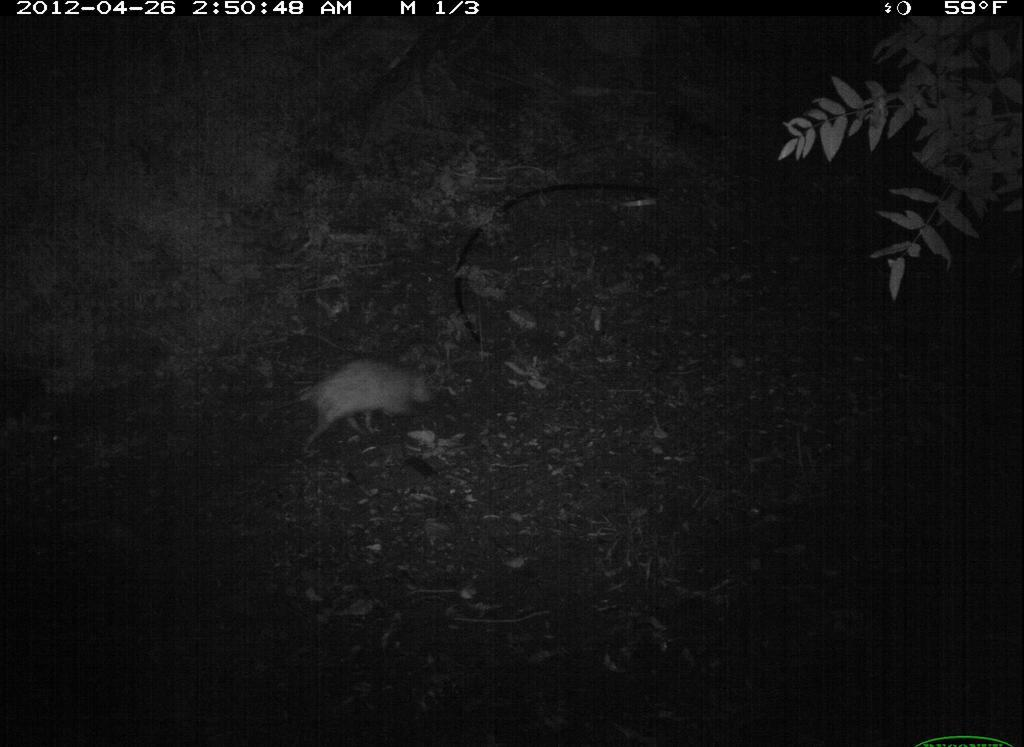opossum: (281, 354, 432, 454)
